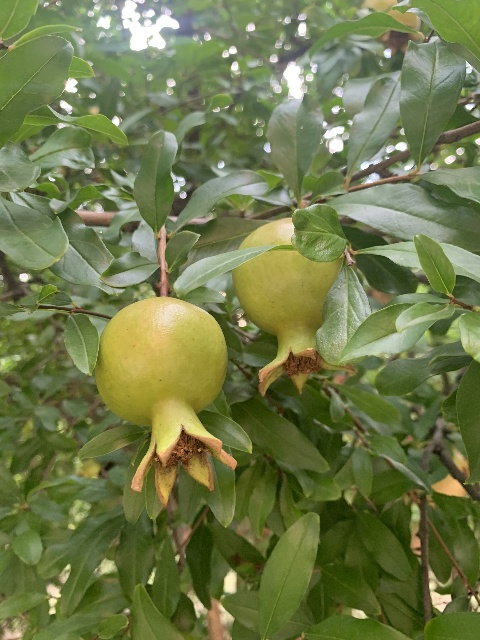early-fruit: (362, 0, 425, 56)
mid-growth: (94, 296, 237, 507), (232, 217, 357, 397)
